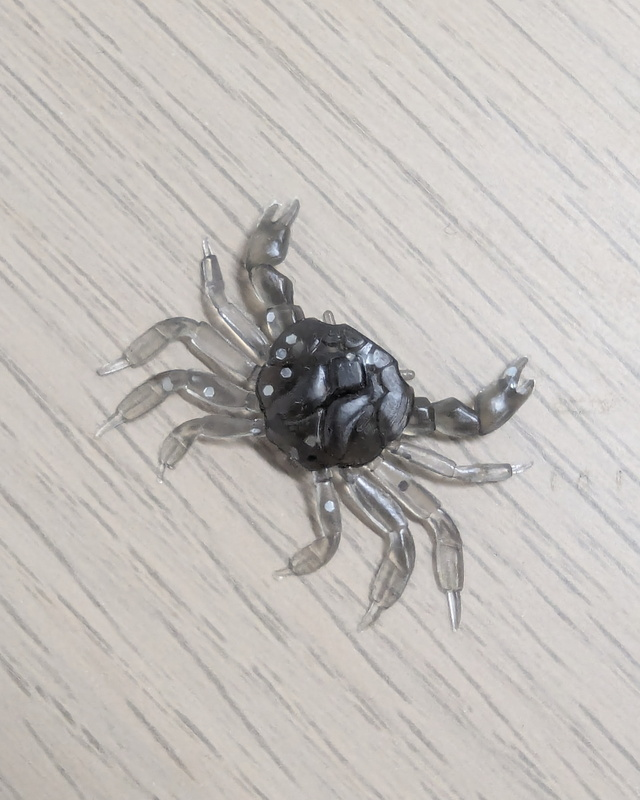crab1: (89, 197, 538, 631)
